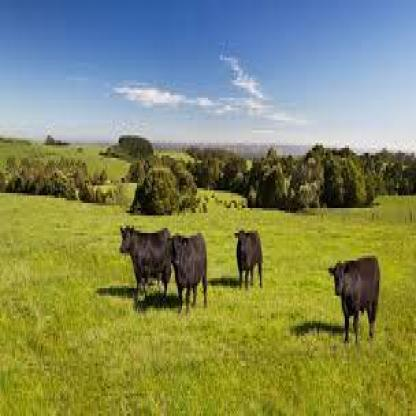cow: (330, 260, 380, 340), (121, 227, 172, 302), (169, 230, 210, 310), (234, 232, 268, 292)
